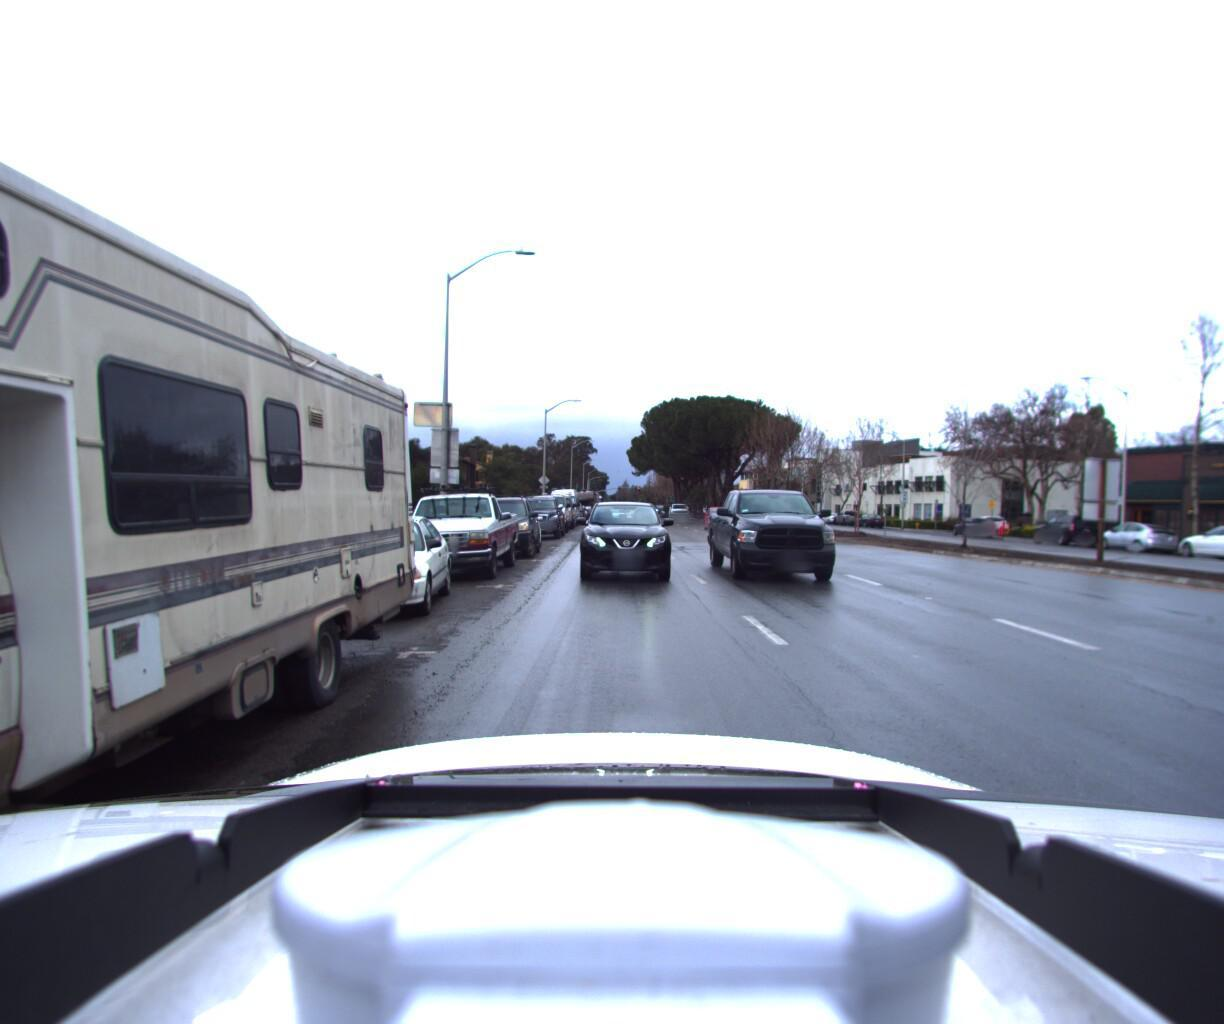car: (281, 511, 456, 626), (710, 483, 864, 596), (379, 476, 521, 587), (571, 498, 669, 585), (456, 489, 540, 562), (1090, 518, 1182, 556), (509, 488, 566, 541), (1167, 521, 1224, 567), (1028, 513, 1100, 547), (523, 491, 568, 532), (537, 492, 574, 530), (953, 513, 1009, 533), (948, 515, 990, 537), (666, 502, 690, 523)
other_vehicle: (544, 482, 580, 526)
